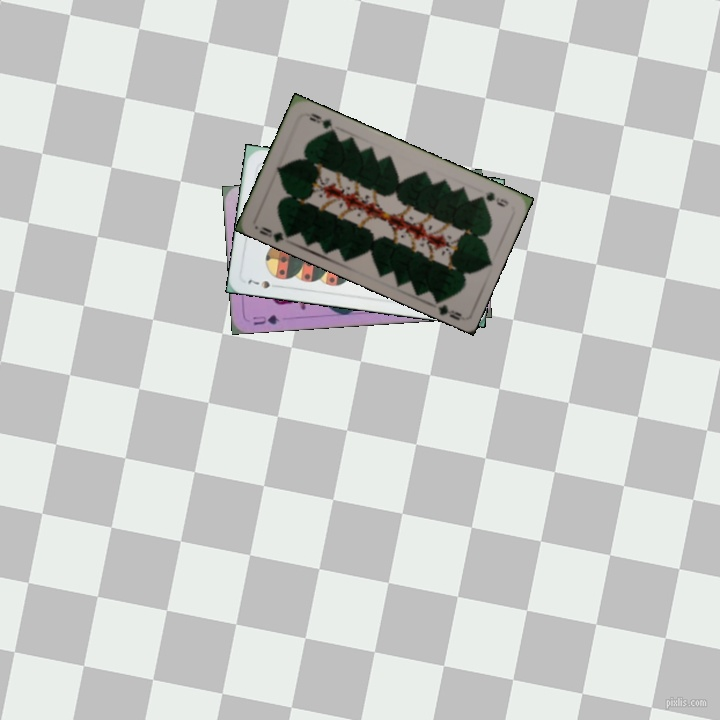G9: (472, 188, 511, 210), (255, 222, 293, 244)
GU: (249, 311, 282, 328)
S7: (244, 275, 273, 291)
